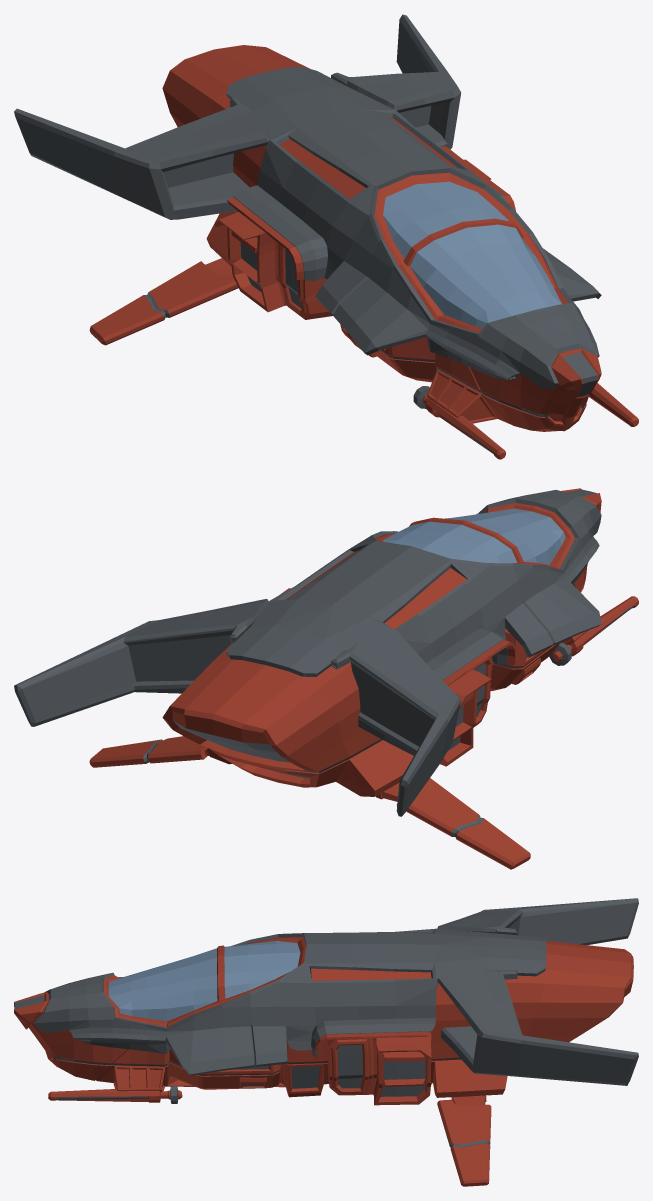
File: Fighter_07_Red.fbx
3 renders of one model, top to bottom at view 1: azimuth 30°, elevation 25°; view 2: azimuth 150°, elevation 25°; view 3: azimuth 270°, elevation 25°, orthographic. The views are drawn at different scales.
Visible parts, largest first — view 1: Fighter_07_Red; view 2: Fighter_07_Red; view 3: Fighter_07_Red.
Part boxes in pixels (x1,y1,x2,y2): Fighter_07_Red: [14, 14, 638, 459]; Fighter_07_Red: [14, 488, 638, 869]; Fighter_07_Red: [14, 898, 638, 1186].
Bounding box in the file's own units: 1400 × 602 × 2152.
3 materials, 3 textured.
